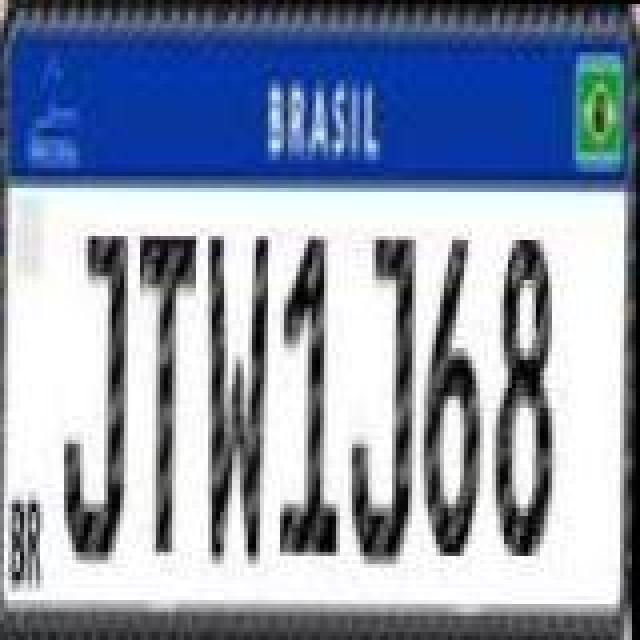1: (276, 232, 348, 556)
6: (418, 226, 486, 562)
8: (490, 230, 558, 554)
J: (66, 232, 134, 568), (350, 234, 418, 570)
T: (136, 232, 200, 556)
W: (200, 234, 272, 570)
